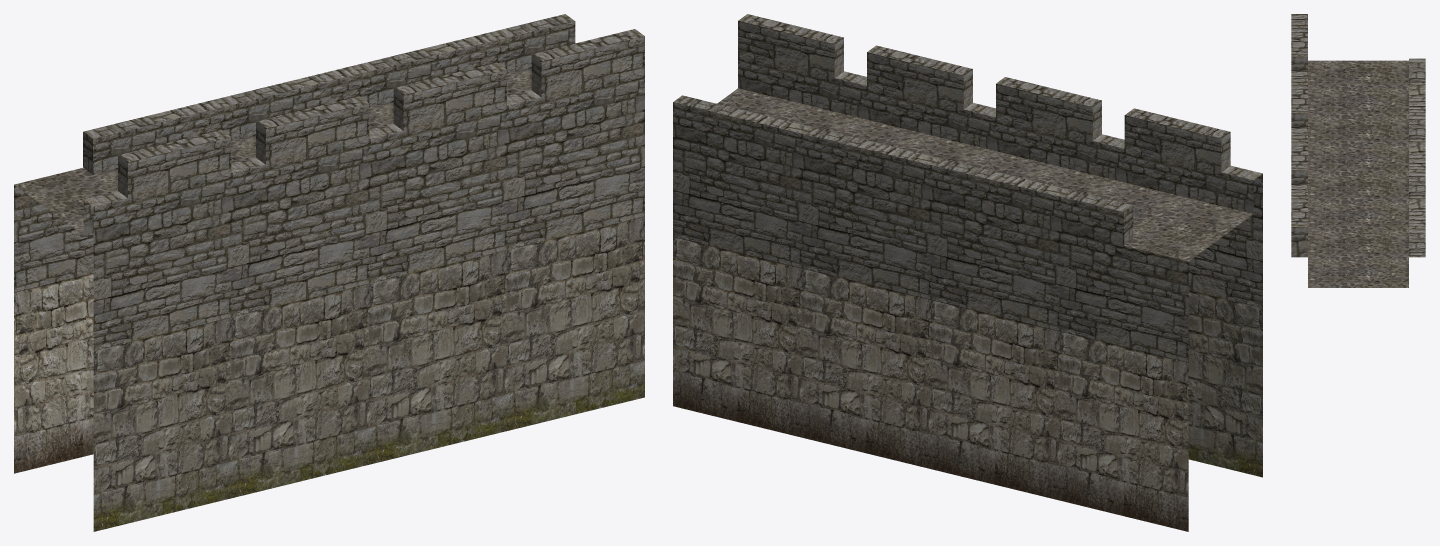
File: poorlords_wall_stairjunction.FBX
3 views of the same model, side by side, from view 1: azimuth 30°, elevation 25°; view 2: azimuth 150°, elevation 25°; view 3: azimuth 270°, elevation 25° (orthographic). The views are drawn at different scales.
Parts seen in each view (by area): view 1: Poorlords_wall_stairjunction_; view 2: Poorlords_wall_stairjunction_; view 3: Poorlords_wall_stairjunction_.
Boxes of the visible parts, x1,y1,x2,y2 form: Poorlords_wall_stairjunction_: (14,14,644,531); Poorlords_wall_stairjunction_: (673,14,1262,531); Poorlords_wall_stairjunction_: (1291,14,1425,287).
Size of the model in its own units: 1024 by 256 by 641.
